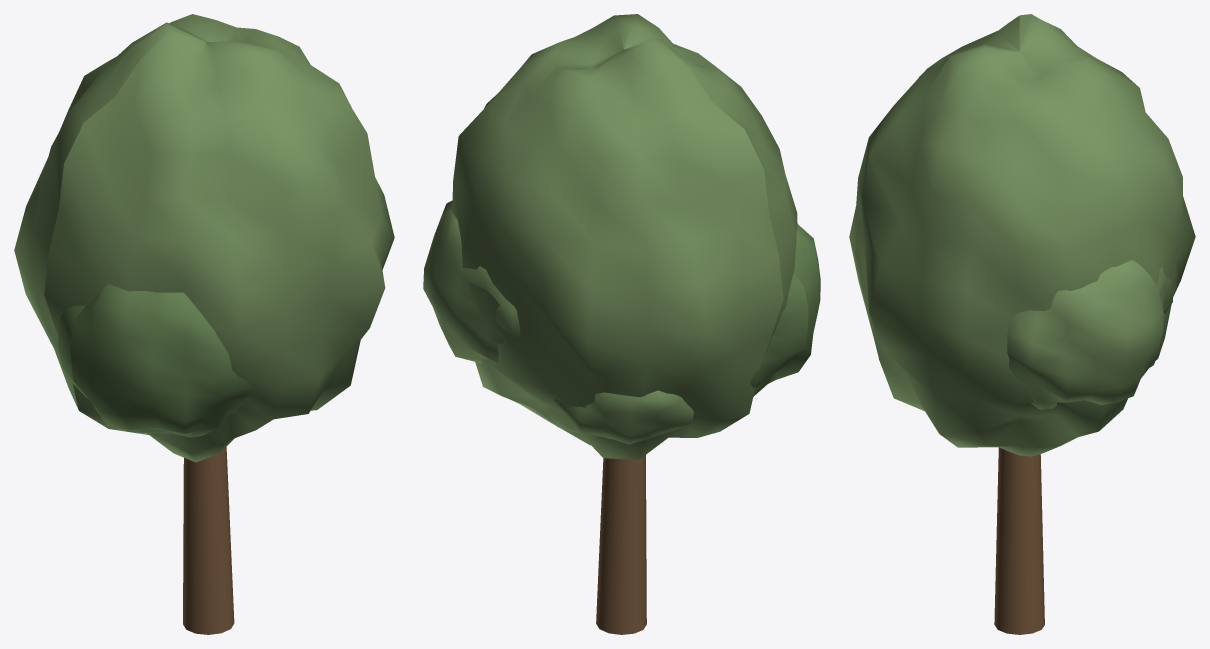
The model's file is berkenye.glb.
The picture shows the model from 3 angles, left to right: view 1: azimuth 30°, elevation 25°; view 2: azimuth 150°, elevation 25°; view 3: azimuth 270°, elevation 25°; orthographic projection.
Parts seen in each view (by area): view 1: korona-1, korona-2, torzs; view 2: korona-1, torzs, korona-3, korona-5, korona-2; view 3: korona-1, korona-3, torzs.
Boxes of the visible parts, box(x1,y1,x2,y2) form: korona-1: box(14, 14, 394, 462); korona-2: box(58, 284, 253, 437); torzs: box(183, 447, 234, 634); korona-1: box(452, 14, 797, 459); torzs: box(596, 455, 646, 634); korona-3: box(423, 200, 520, 363); korona-5: box(547, 390, 693, 444); korona-2: box(750, 224, 820, 396); korona-1: box(849, 14, 1195, 456); korona-3: box(1007, 260, 1172, 409); torzs: box(994, 447, 1044, 634).
Bounding box in the file's own units: 4.65 × 8.17 × 4.32.
